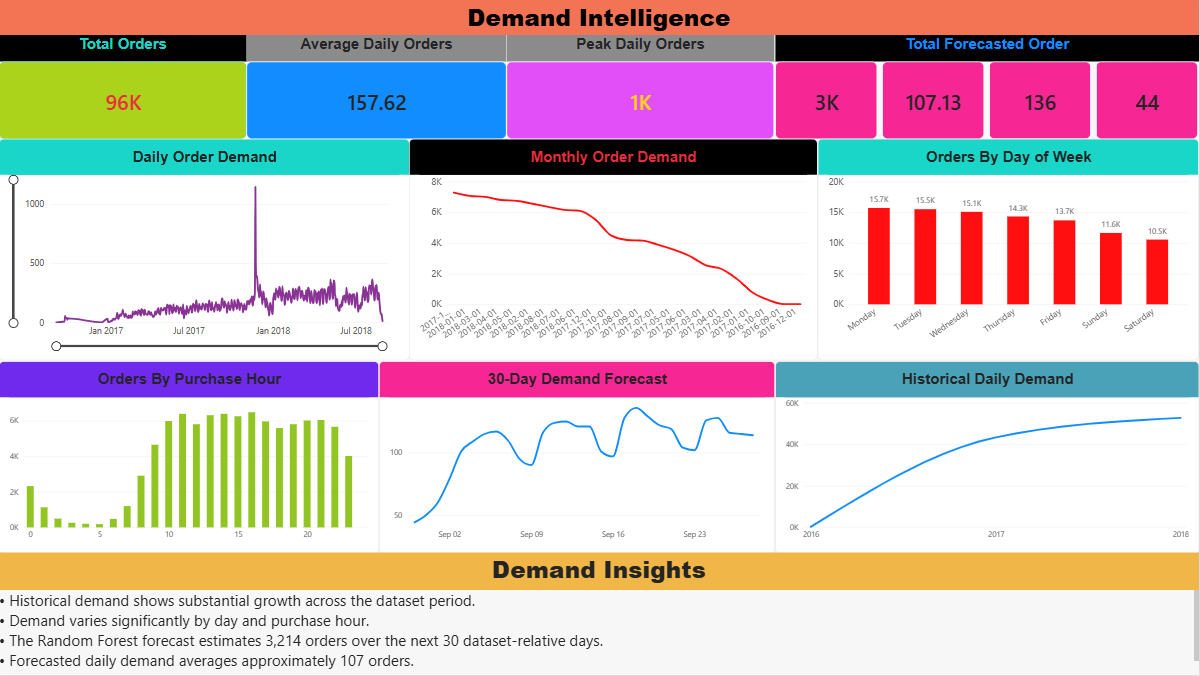

The page's visual inventory and layout, read from the dashboard file:
{"tool":"powerbi","page":{"name":"Demand Intelligence","canvas":[1920,1080],"ordinal":1},"visuals":[{"type":"textbox","box":[0,0,1920.1,56.1],"z":0},{"type":"cardVisual","title":"Total Orders","fields":{"Data":["Sum(Executive KPIs.total_orders)"]},"box":[0,56.1,396.3,166.5],"z":1000},{"type":"cardVisual","title":"Average Daily Orders","fields":{"Data":["Avg(Daily Demand.orders)"]},"box":[396.3,56.1,416.2,166.5],"z":2000},{"type":"cardVisual","title":"Peak Daily Orders","fields":{"Data":["Max(Daily Demand.orders)"]},"box":[812.5,56.1,428.9,166.5],"z":3000},{"type":"cardVisual","title":"Total Forecasted Order","fields":{"Data":["Sum(Demand Forecast.predicted_orders)","Avg(Demand Forecast.predicted_orders)","Max(Demand Forecast.predicted_orders)","Min(Demand Forecast.predicted_orders)"]},"box":[1241.4,56.1,678.6,166.5],"z":4000},{"type":"lineChart","title":"Daily Order Demand","fields":{"Category":["Daily Demand.order_date"],"Y":["Sum(Daily Demand.orders)"]},"box":[0,222.6,656.9,354.7],"z":5000},{"type":"lineChart","title":"Monthly Order Demand","fields":{"Category":["Monthly Demand.month"],"Y":["Sum(Monthly Demand.orders)"]},"box":[656.9,222.6,653.3,354.7],"z":6000},{"type":"columnChart","title":"Orders By Day of Week","fields":{"Category":["Day of Week Demand.day_name"],"Y":["Sum(Day of Week Demand.orders)"]},"box":[1310.2,222.6,609.9,354.7],"z":7000},{"type":"columnChart","title":"Orders By Purchase Hour","fields":{"Category":["Hourly Demand.purchase_hour"],"Y":["Sum(Hourly Demand.orders)"]},"box":[0,577.3,608,307.6],"z":8000},{"type":"lineChart","title":"30-Day Demand Forecast","fields":{"Category":["Demand Forecast.date"],"Y":["Sum(Demand Forecast.predicted_orders)"]},"box":[608,577.3,633.4,307.6],"z":9000},{"type":"lineChart","title":"Historical Daily Demand","fields":{"Category":["Daily Demand.order_date.Variation.Date Hierarchy.Year","Daily Demand.order_date.Variation.Date Hierarchy.Quarter","Daily Demand.order_date.Variation.Date Hierarchy.Month","Daily Demand.order_date.Variation.Date Hierarchy.Day"],"Y":["Sum(Daily Demand.orders)"]},"box":[1241.4,577.3,678.6,307.6],"z":10000},{"type":"textbox","box":[0,944.6,1920.1,135.7],"z":11000},{"type":"textbox","box":[0,884.9,1920.1,59.7],"z":12000}]}

Visuals, with their boxes in screenshot pixels (x1, y1, x2, y2), scaled from the page's 1920x1080 canvas onto the 1200x676 screenshot:
textbox: rect(0, 0, 1199, 35)
"Total Orders" cardVisual: rect(0, 35, 248, 139)
"Average Daily Orders" cardVisual: rect(248, 35, 508, 139)
"Peak Daily Orders" cardVisual: rect(508, 35, 776, 139)
"Total Forecasted Order" cardVisual: rect(776, 35, 1199, 139)
"Daily Order Demand" lineChart: rect(0, 139, 411, 361)
"Monthly Order Demand" lineChart: rect(411, 139, 819, 361)
"Orders By Day of Week" columnChart: rect(819, 139, 1199, 361)
"Orders By Purchase Hour" columnChart: rect(0, 361, 380, 554)
"30-Day Demand Forecast" lineChart: rect(380, 361, 776, 554)
"Historical Daily Demand" lineChart: rect(776, 361, 1199, 554)
textbox: rect(0, 591, 1199, 675)
textbox: rect(0, 554, 1199, 591)
